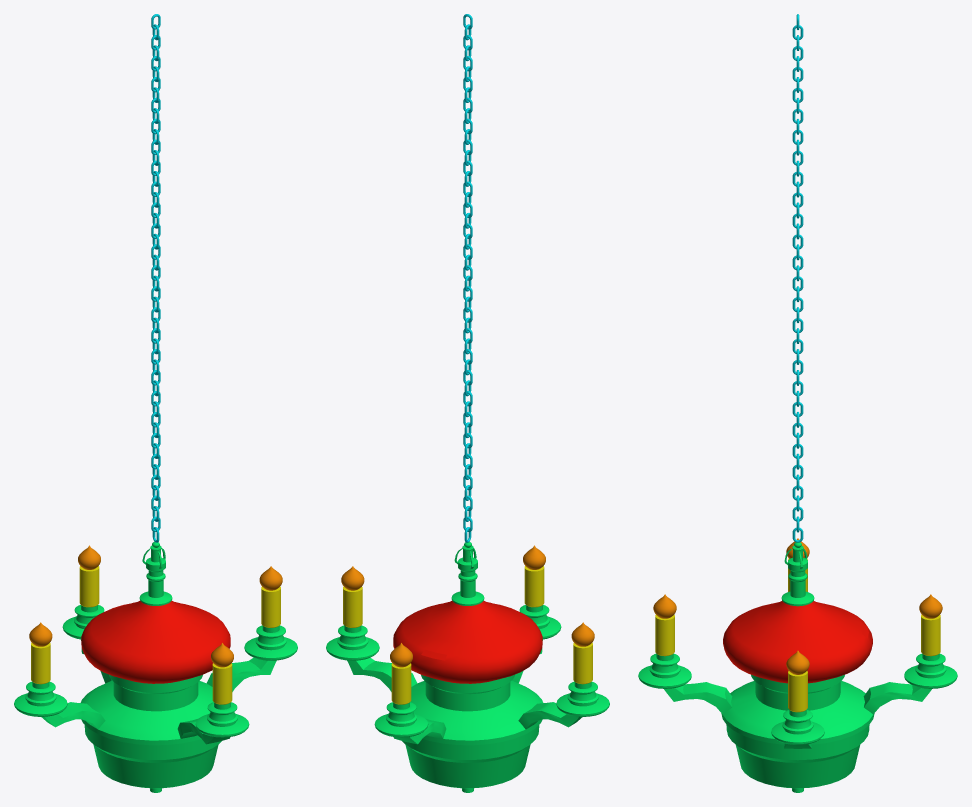
The model's file is candelabro_low.fbx.
The picture shows the model from 3 angles, left to right: view 1: azimuth 30°, elevation 25°; view 2: azimuth 150°, elevation 25°; view 3: azimuth 270°, elevation 25°; orthographic projection.
Parts seen in each view (by area): view 1: m_candelabro_low, m_velas_low, m_cadenasCandelabro_low; view 2: m_candelabro_low, m_velas_low, m_cadenasCandelabro_low; view 3: m_candelabro_low, m_velas_low, m_cadenasCandelabro_low.
Part boxes in pixels (bbox=[...]): m_candelabro_low: bbox=[41, 542, 276, 792]; m_velas_low: bbox=[14, 545, 297, 737]; m_cadenasCandelabro_low: bbox=[151, 14, 160, 542]; m_candelabro_low: bbox=[347, 542, 582, 792]; m_velas_low: bbox=[326, 545, 609, 737]; m_cadenasCandelabro_low: bbox=[463, 14, 472, 542]; m_candelabro_low: bbox=[664, 542, 931, 792]; m_velas_low: bbox=[638, 538, 957, 744]; m_cadenasCandelabro_low: bbox=[792, 14, 803, 542].
Size of the model in its own units: 996 by 2672 by 996.
